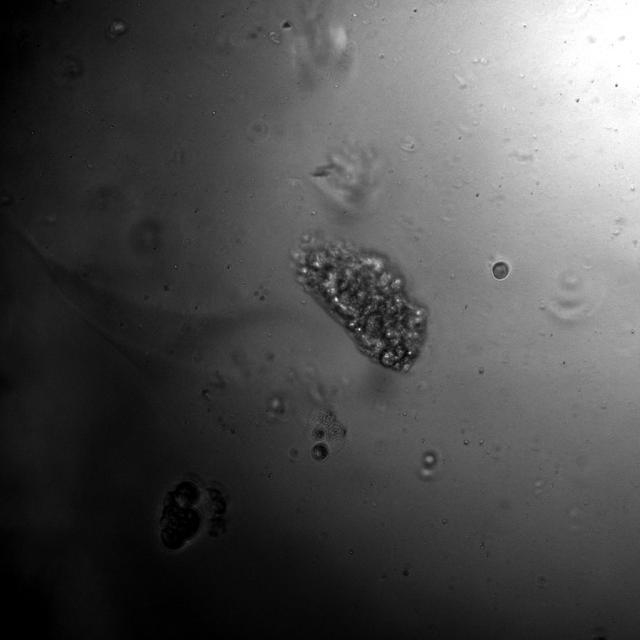organoid: (294, 240, 426, 370), (159, 478, 228, 551), (308, 407, 346, 461), (418, 450, 439, 481), (491, 261, 509, 280)
